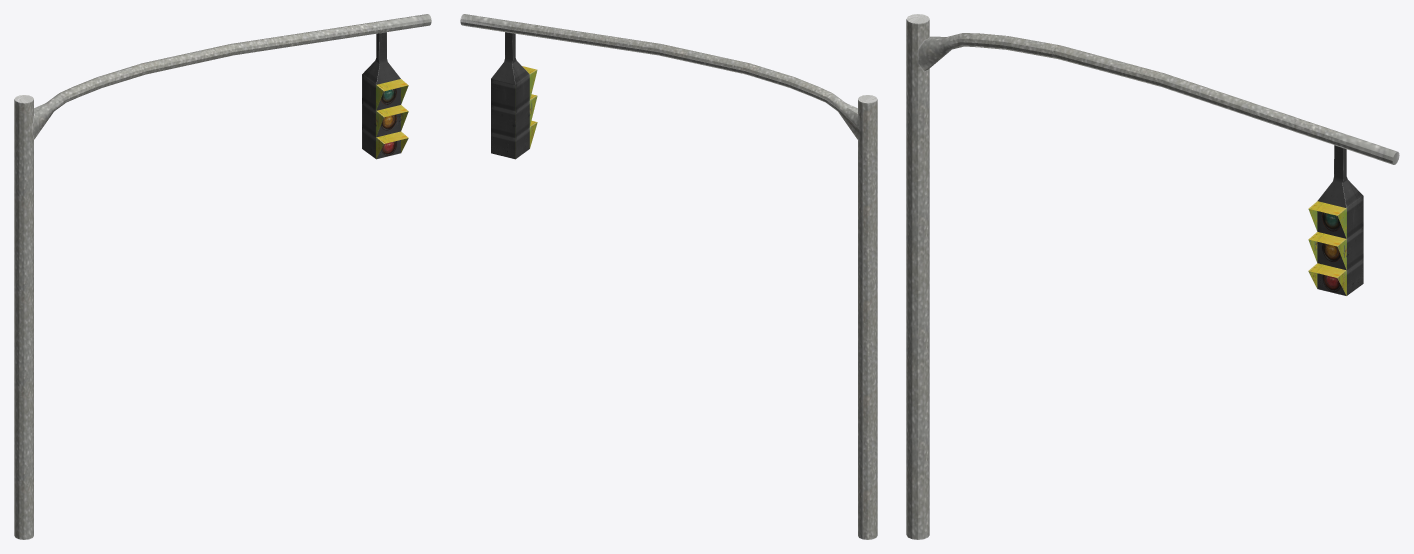
The model's file is StopLight.fbx.
The picture shows the model from 3 angles, left to right: view 1: azimuth 30°, elevation 25°; view 2: azimuth 150°, elevation 25°; view 3: azimuth 330°, elevation 25°; orthographic projection. The views are drawn at different scales.
Parts seen in each view (by area): view 1: polySurface2; view 2: polySurface2; view 3: polySurface2.
Part boxes in pixels (left/top/right/bottom): polySurface2: left=14, top=14, right=431, bottom=539; polySurface2: left=460, top=14, right=877, bottom=539; polySurface2: left=906, top=14, right=1399, bottom=539.
Bounding box in the file's own units: 30.32 × 31.05 × 2.81.
Materials: 1 (1 with a texture image).
